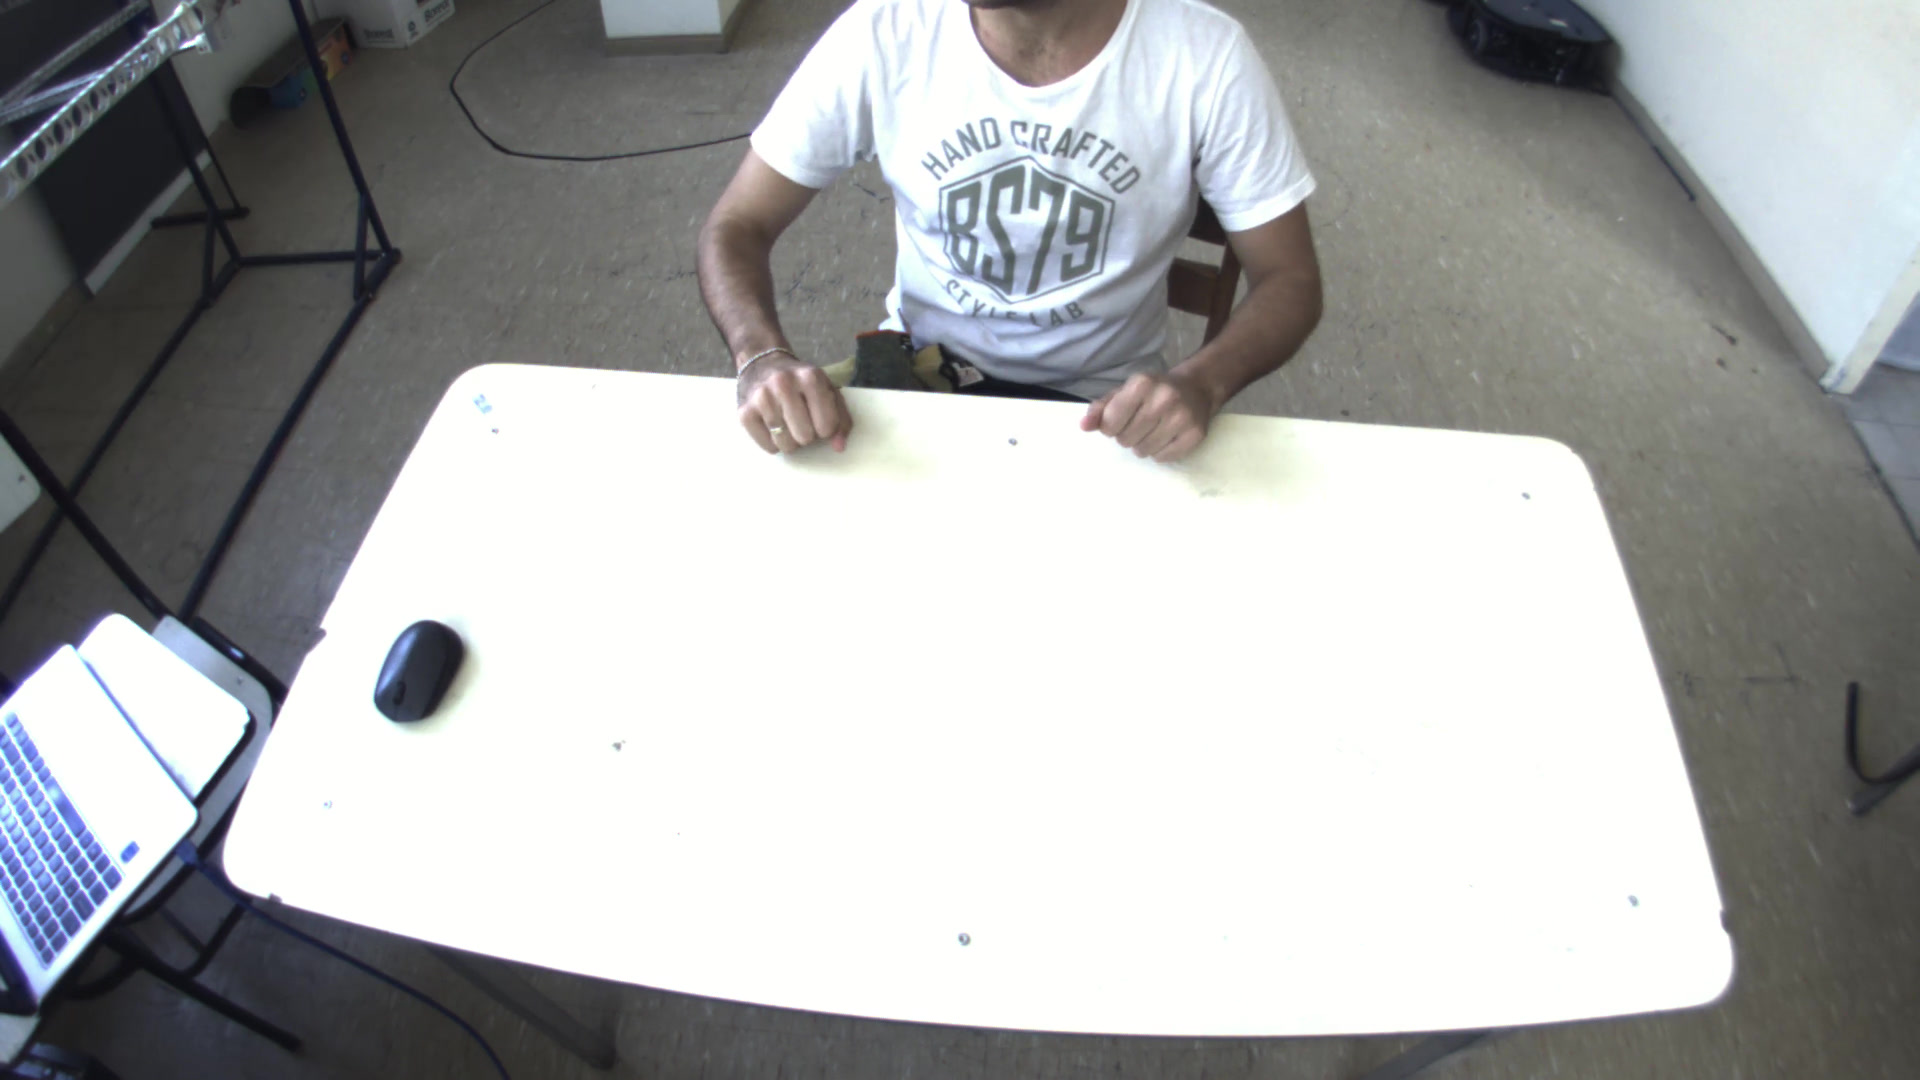hand: (717, 331, 861, 455), (1075, 352, 1222, 464)
